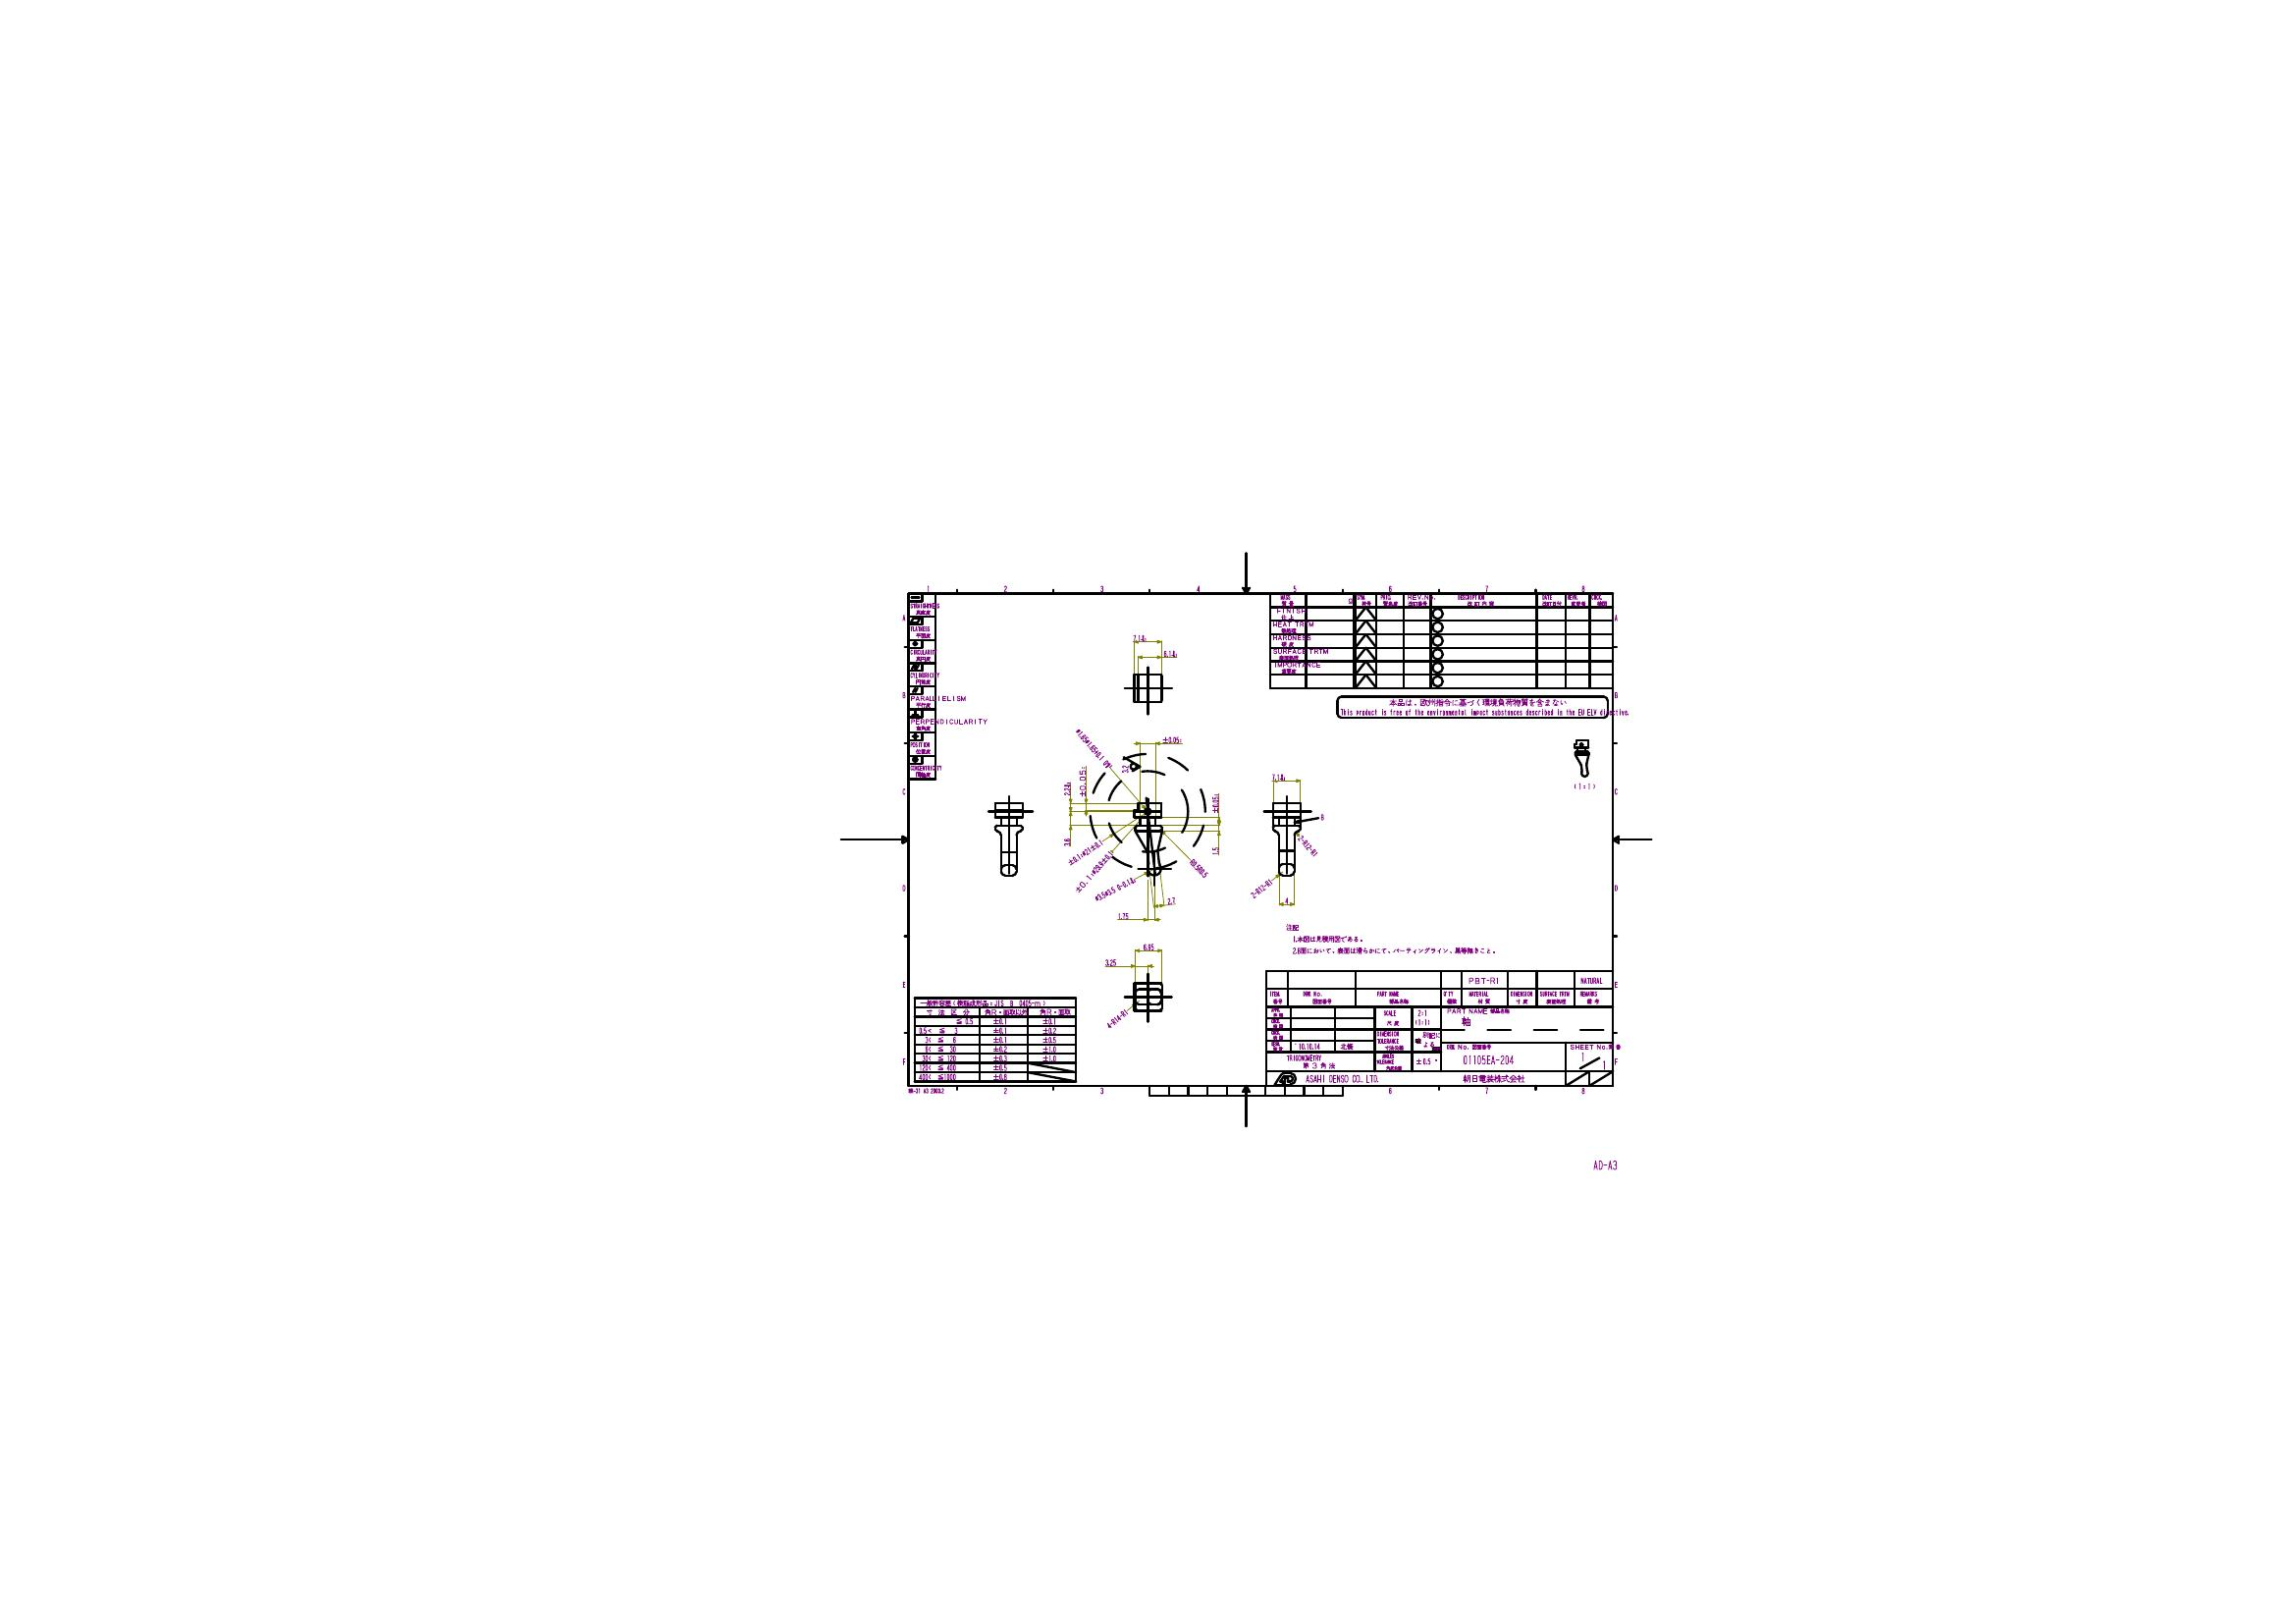anntotation_text: (1284, 921, 1498, 956), (1337, 692, 1607, 719), (1592, 1158, 1616, 1171), (906, 1086, 947, 1091), (1572, 782, 1597, 789)
dimension_text: (1065, 743, 1117, 750), (1161, 735, 1182, 743), (1163, 649, 1180, 657), (1131, 633, 1147, 642), (1123, 763, 1130, 772)
object: (1131, 801, 1163, 875), (993, 801, 1022, 875), (1272, 801, 1302, 875), (1131, 981, 1163, 1011), (1131, 673, 1163, 701), (1572, 740, 1592, 777)
title_block: (1265, 970, 1613, 1086), (1270, 592, 1614, 687), (913, 997, 1075, 1083), (906, 591, 936, 780)
